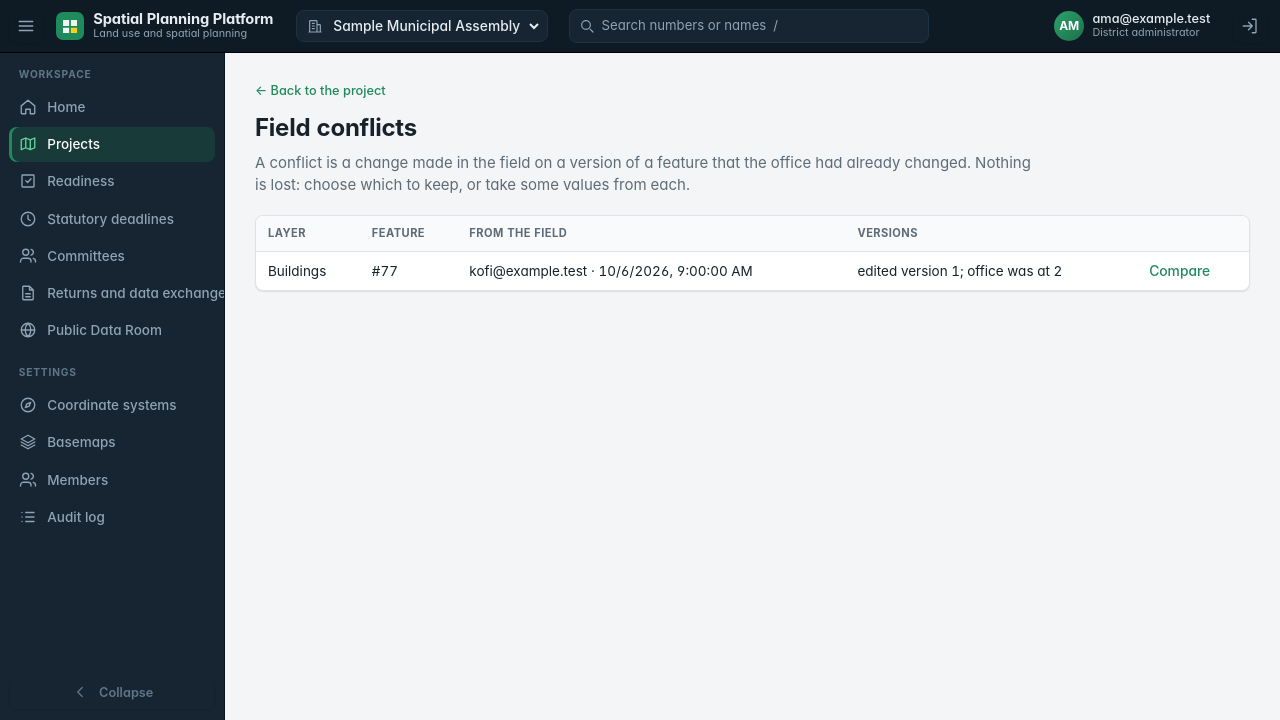
Scenario: field conflicts › merges field by field: the picked values and the chosen shape are sent
This screenshot has width=1280, height=720.
Click the button "Compare" at (1180, 271), box [1146,263,1213,279]
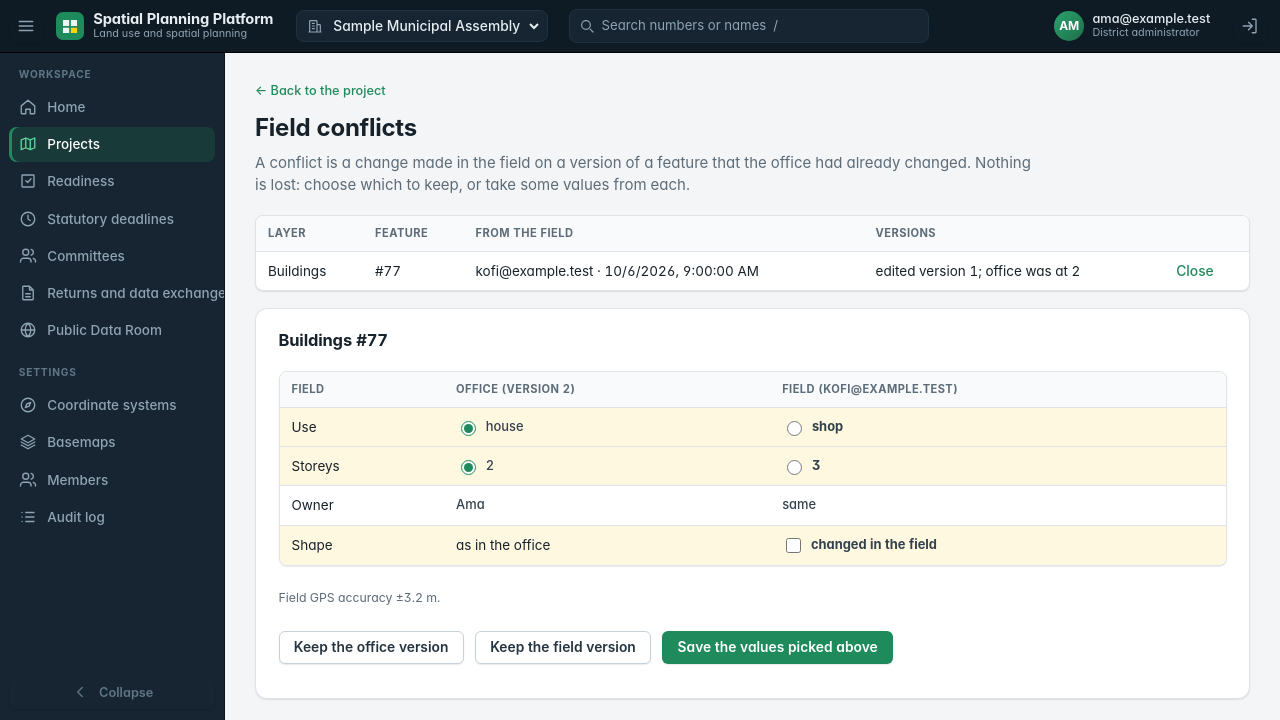
Click the radio button with aria-label "Field value for Use" at (795, 428), box [787,421,802,436]
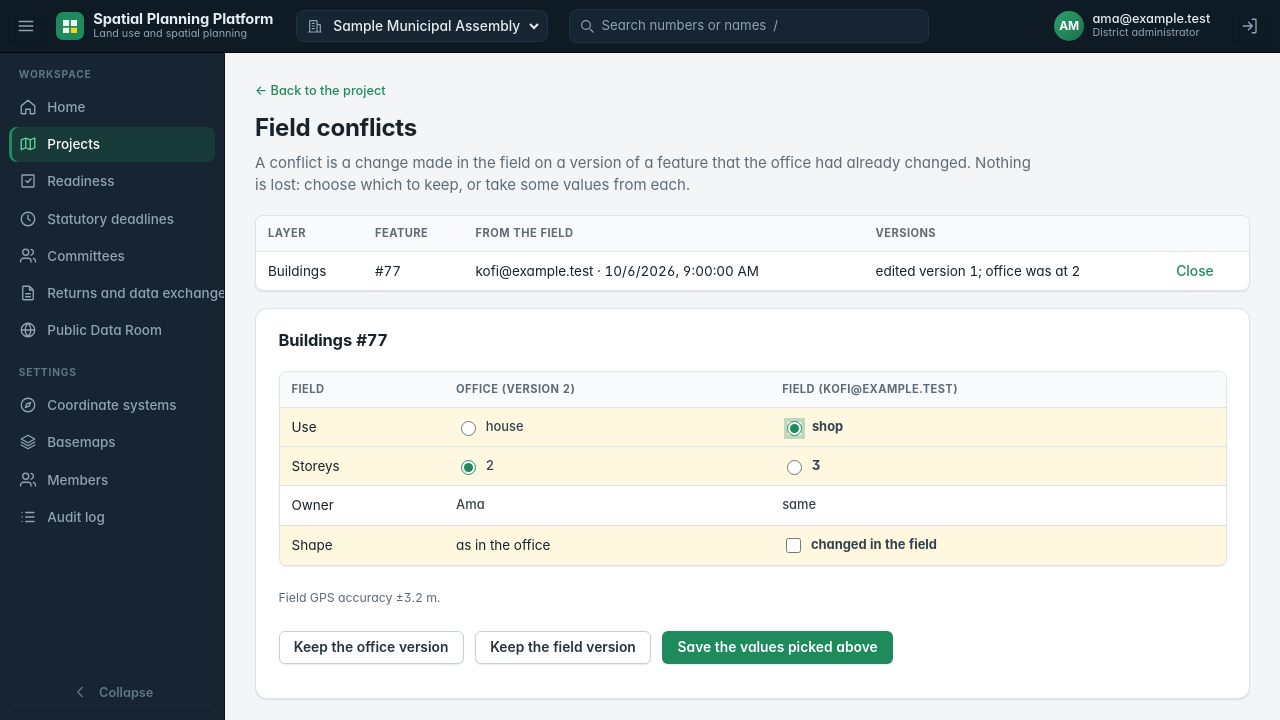
Click the checkbox named "Use the shape from the field" at (794, 545), box [786,538,801,553]
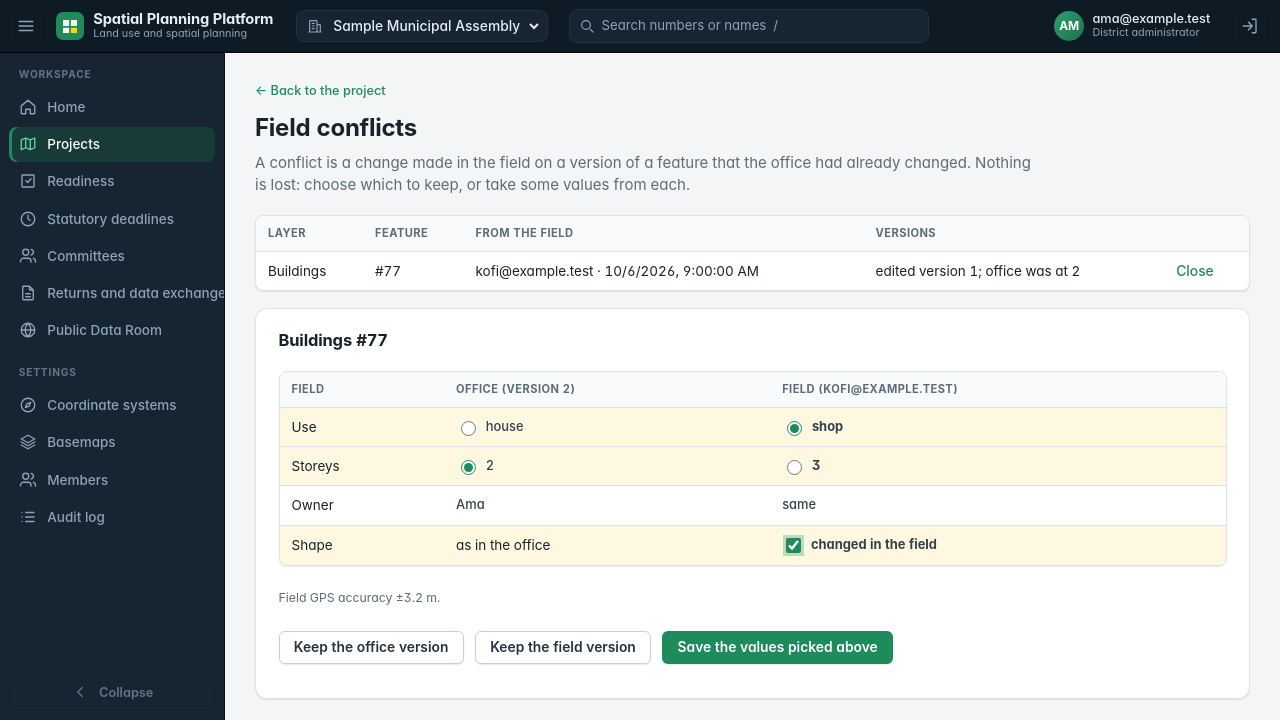
Click the button "Save the values picked above" at (778, 647), box [662,631,893,664]
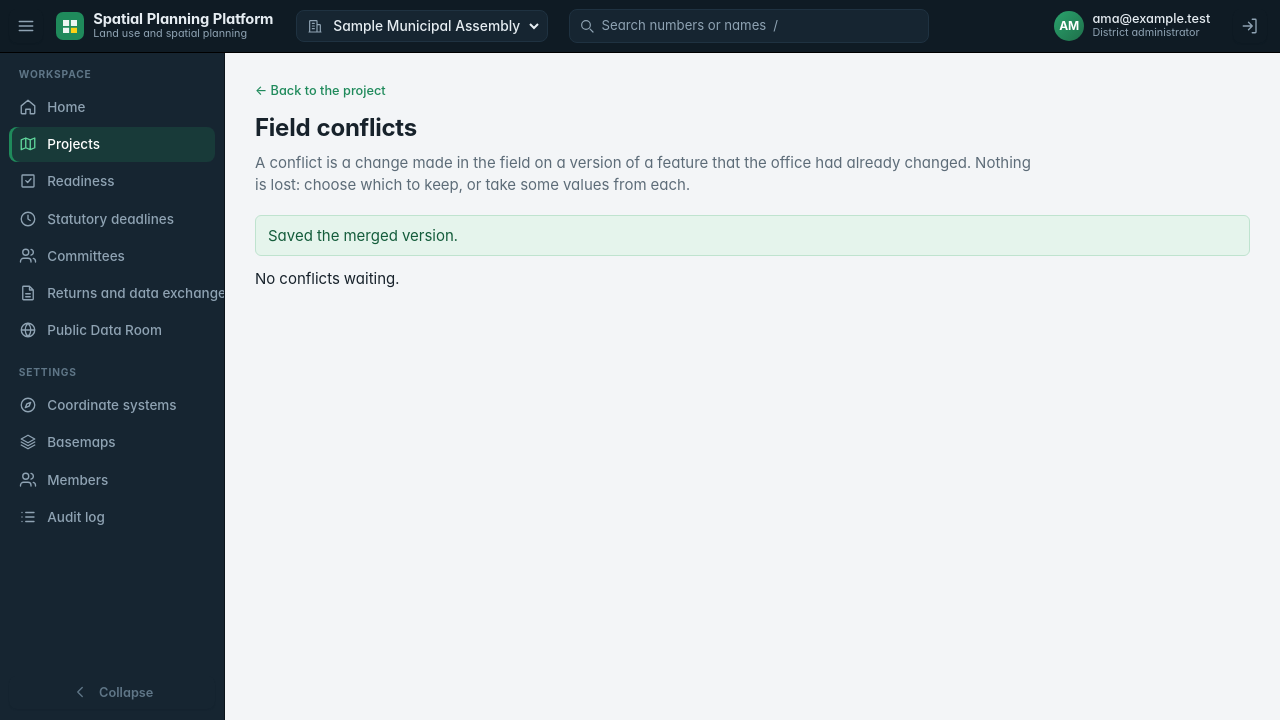
Now the text "No conflicts waiting." is shown, box [255,268,399,288]
Now the message reads "Saved the merged version.", box [268,226,458,244]
